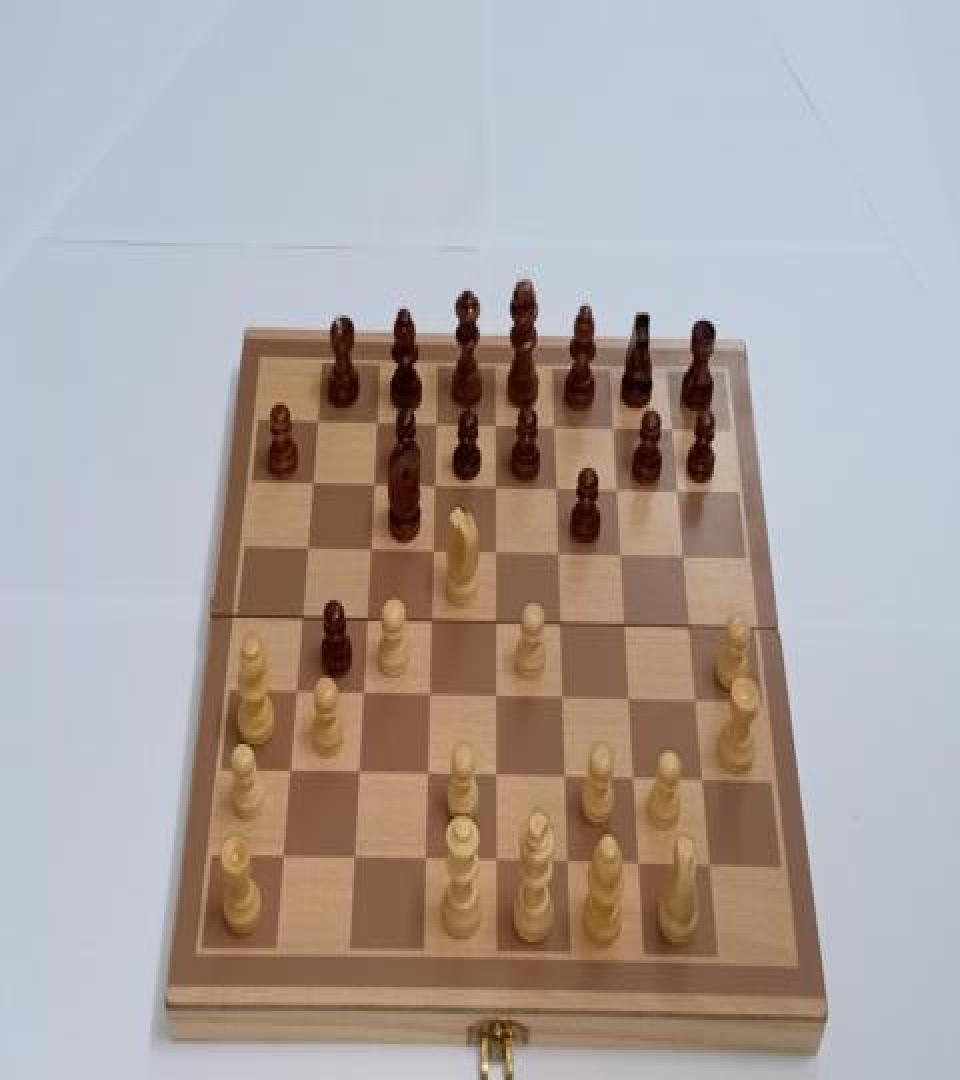xcorner: (486, 412, 504, 440), (608, 478, 626, 506), (309, 408, 327, 435), (304, 470, 322, 497), (293, 606, 311, 633), (281, 759, 299, 786), (274, 844, 292, 871), (365, 471, 383, 498), (361, 537, 379, 564), (354, 683, 372, 710), (350, 762, 368, 789), (346, 846, 364, 873), (427, 411, 445, 438), (426, 474, 444, 501), (424, 538, 442, 565), (423, 609, 441, 636), (421, 684, 439, 711), (487, 610, 505, 637), (488, 765, 506, 792), (489, 851, 507, 878), (545, 414, 563, 441), (547, 477, 565, 504), (550, 543, 568, 570), (552, 612, 570, 639), (555, 687, 573, 714), (557, 766, 575, 793), (560, 852, 578, 879), (604, 415, 622, 442), (612, 545, 630, 572), (621, 689, 639, 716), (626, 768, 644, 795), (663, 417, 681, 444), (669, 480, 687, 507), (675, 546, 693, 573), (681, 617, 699, 644), (688, 690, 706, 717), (703, 855, 721, 882), (299, 536, 317, 562), (287, 680, 305, 706), (368, 410, 386, 436), (358, 608, 376, 634), (419, 764, 437, 790), (417, 848, 435, 874), (487, 476, 505, 502), (487, 542, 505, 568), (488, 686, 506, 712), (617, 614, 635, 640), (632, 854, 650, 880), (695, 770, 713, 796)
